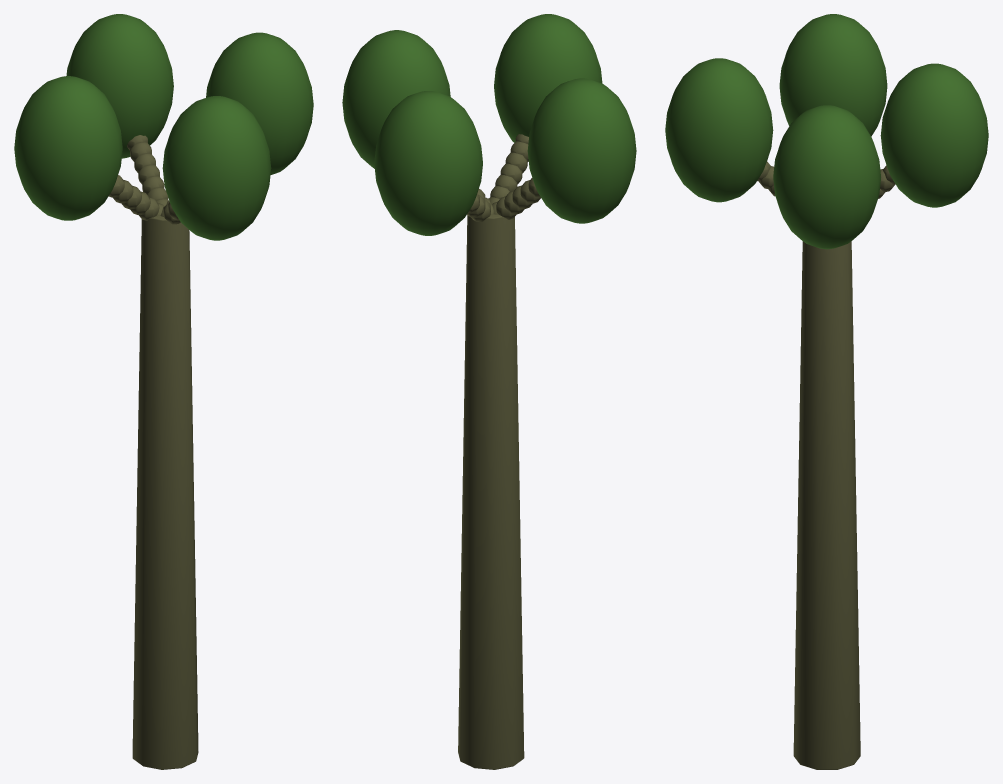
File: licopsida.glb
3 views of the same model, side by side, from view 1: azimuth 30°, elevation 25°; view 2: azimuth 150°, elevation 25°; view 3: azimuth 270°, elevation 25° (orthographic).
Visible parts, largest first — view 1: licopsida; view 2: licopsida; view 3: licopsida.
Boxes of the visible parts, bbox=[...] form: licopsida: bbox=[14, 14, 313, 769]; licopsida: bbox=[342, 14, 636, 769]; licopsida: bbox=[665, 14, 988, 769].
Size of the model in its own units: 2.68 by 6.38 by 2.7.
